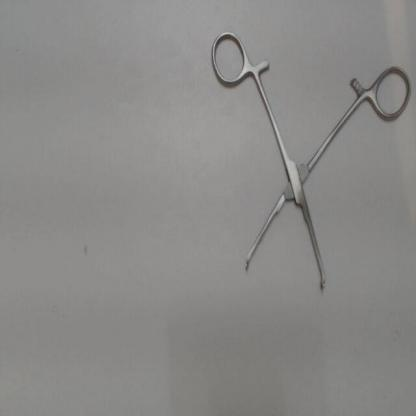Allis Tissue Forceps: (206, 27, 415, 299)
